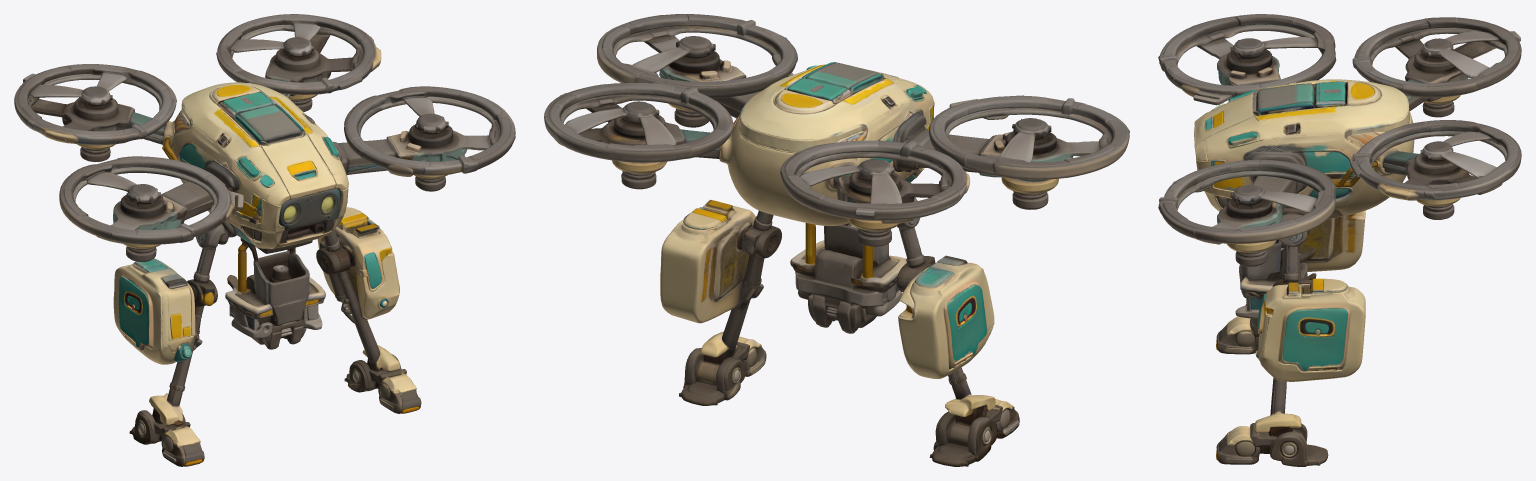
File: cargo_drone.glb
3 views of the same model, side by side, from view 1: azimuth 30°, elevation 25°; view 2: azimuth 150°, elevation 25°; view 3: azimuth 270°, elevation 25° (orthographic). The views are drawn at different scales.
Visible parts, largest first — view 1: FC_housing, FC_rotor1, FC_rotor0, FC_rotor2, FC_rotor3; view 2: FC_housing, FC_rotor1, FC_rotor0, FC_rotor3, FC_rotor2; view 3: FC_housing, FC_rotor0, FC_rotor1, FC_rotor2, FC_rotor3.
Part boxes in pixels (x1,y1,x2,y2): FC_housing: (14,14,515,466); FC_rotor1: (363,97,500,167); FC_rotor0: (87,172,212,230); FC_rotor2: (31,99,162,153); FC_rotor3: (265,34,359,103); FC_housing: (544,14,1129,466); FC_rotor1: (619,18,778,111); FC_rotor0: (954,103,1114,173); FC_rotor3: (567,94,716,178); FC_rotor2: (816,152,951,236); FC_housing: (1158,14,1521,466); FC_rotor0: (1172,20,1317,85); FC_rotor1: (1173,179,1316,229); FC_rotor2: (1370,32,1494,110); FC_rotor3: (1370,135,1477,210).
Size of the model in its own units: 0.9798 by 0.6457 by 0.6819.
Materials: 1 (1 with a texture image).
